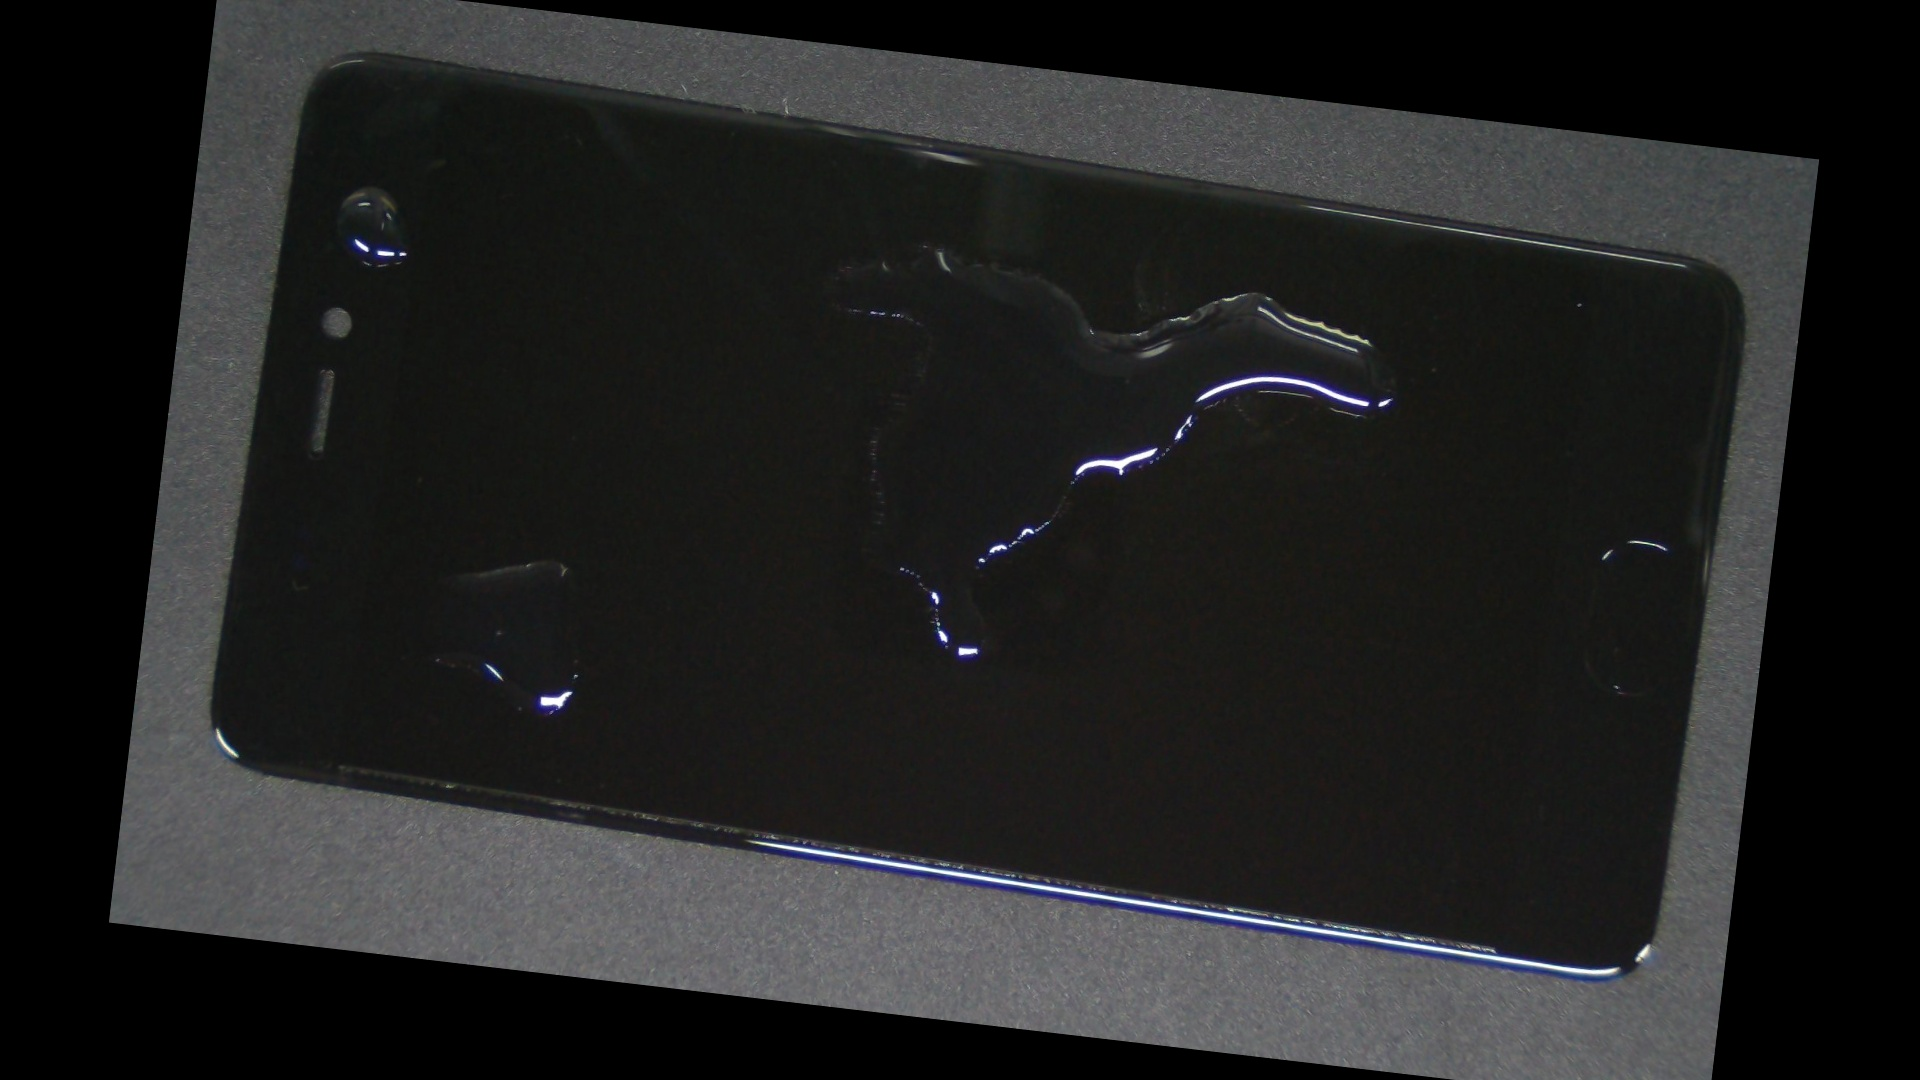oil: (320, 265, 771, 853), (553, 108, 1304, 381), (272, 79, 465, 291)
